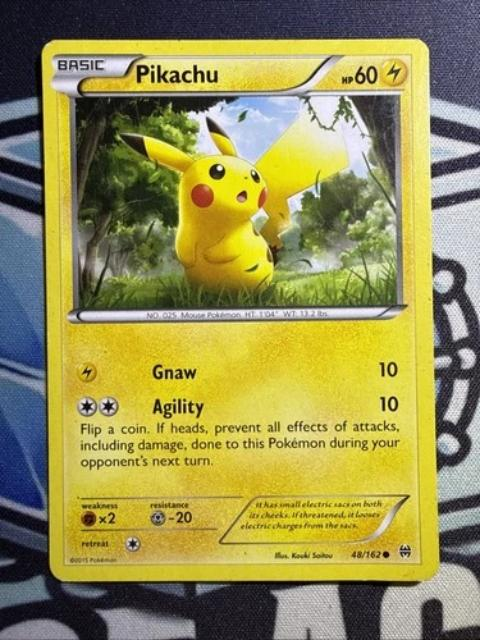Card: (37, 32, 443, 589)
Name: (128, 58, 220, 87)
